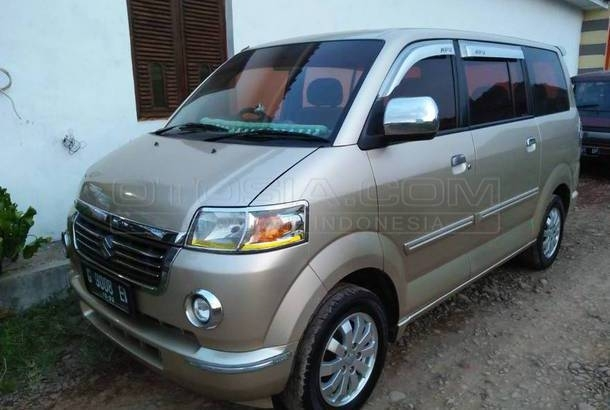plate: (83, 267, 128, 309)
